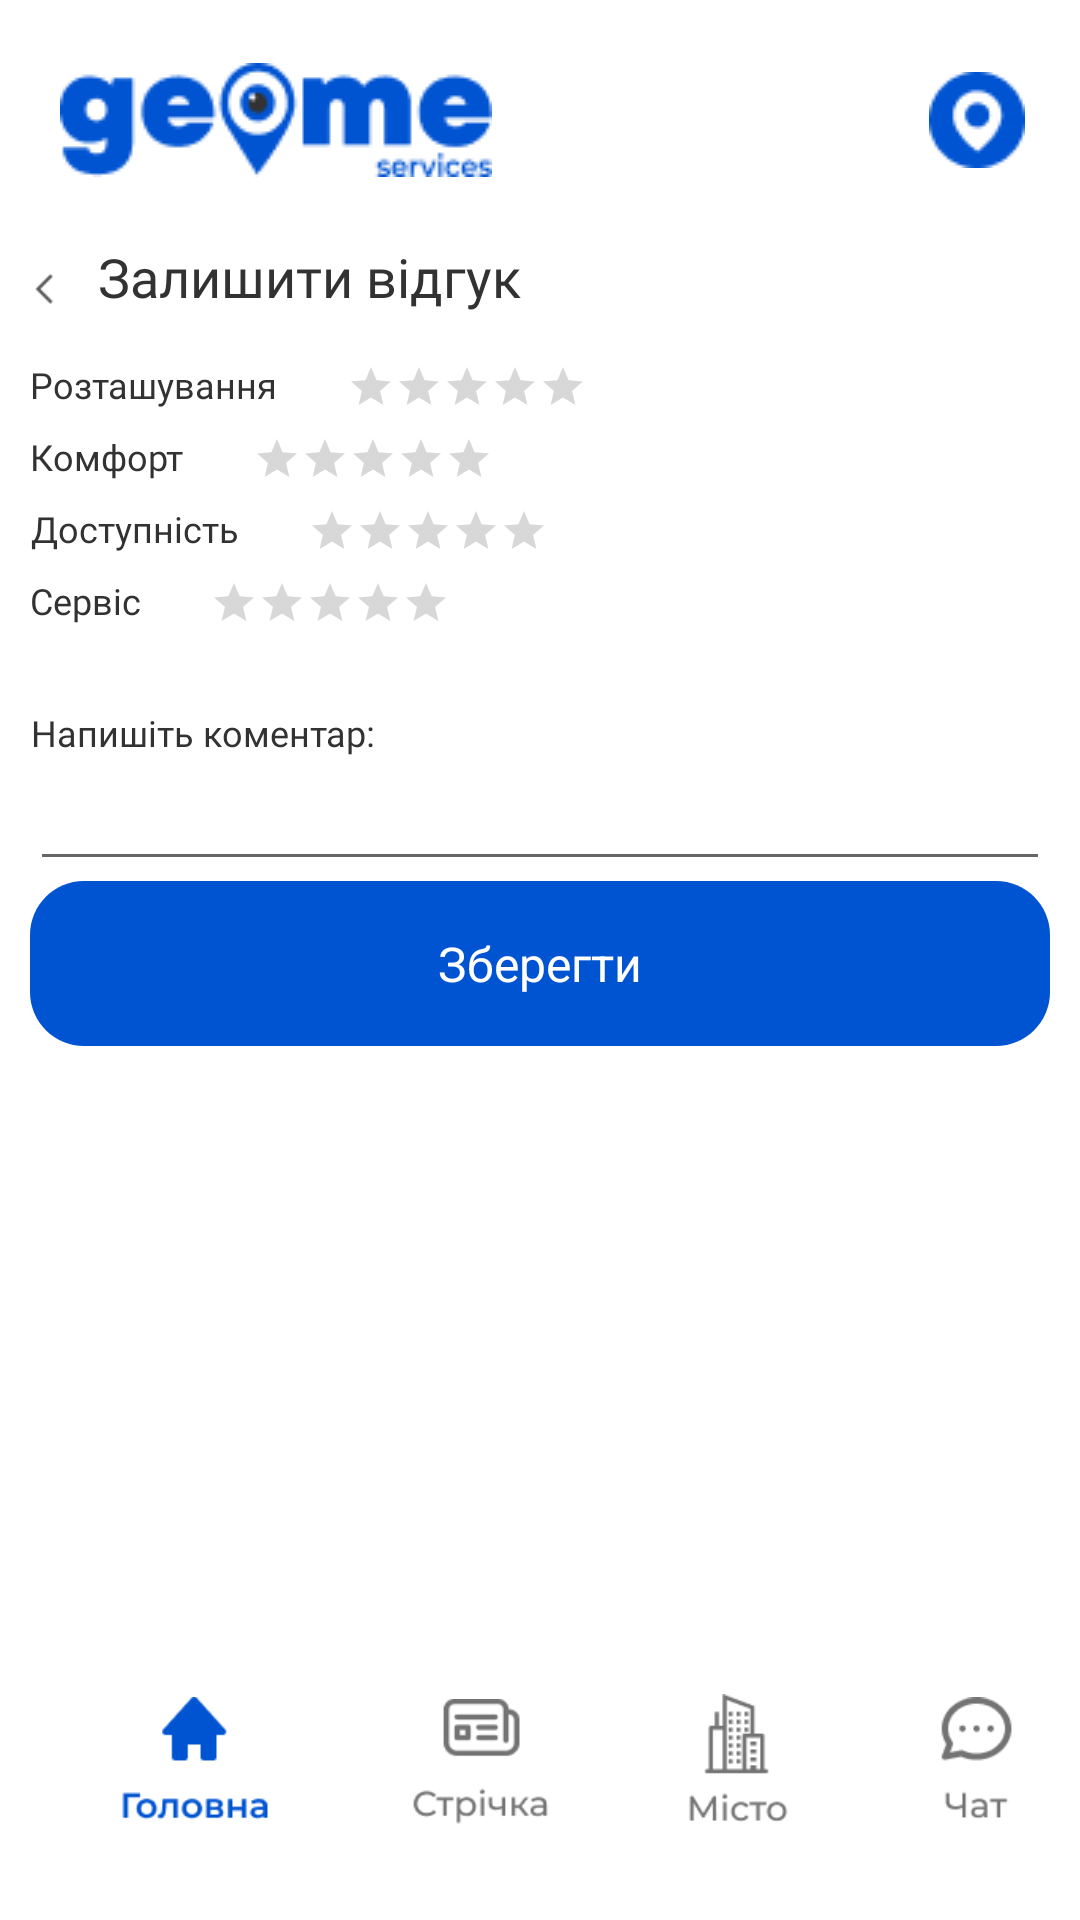

Screen size 1080 × 1920. Icon name, then its box in pixels as [x1, y1, x2, y2]:
Кнопка Мапа: [929, 72, 1025, 168]
